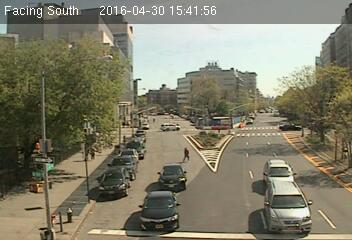neg: (238, 115, 248, 129), (165, 121, 175, 134)
pos: (177, 142, 193, 164)
